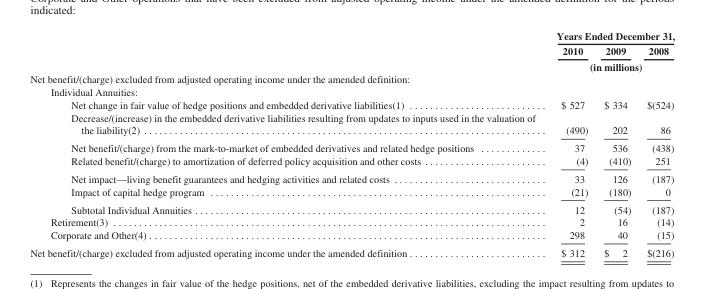table: (29, 29, 674, 258)
table column: (29, 29, 545, 258), (545, 29, 595, 258), (595, 29, 638, 258), (638, 29, 674, 258)
table column header: (29, 29, 674, 72)
table projected row header: (29, 72, 674, 85), (29, 85, 674, 98)
table row: (29, 110, 674, 138), (29, 42, 674, 58), (29, 138, 674, 154), (29, 184, 674, 200), (29, 154, 674, 169), (29, 169, 674, 184), (29, 200, 674, 215), (29, 228, 674, 243), (29, 243, 674, 258), (29, 58, 674, 72), (29, 29, 674, 42), (29, 72, 674, 85), (29, 85, 674, 98), (29, 215, 674, 228), (29, 98, 674, 110)
table spanning cell: (545, 58, 674, 72), (545, 29, 674, 42)
